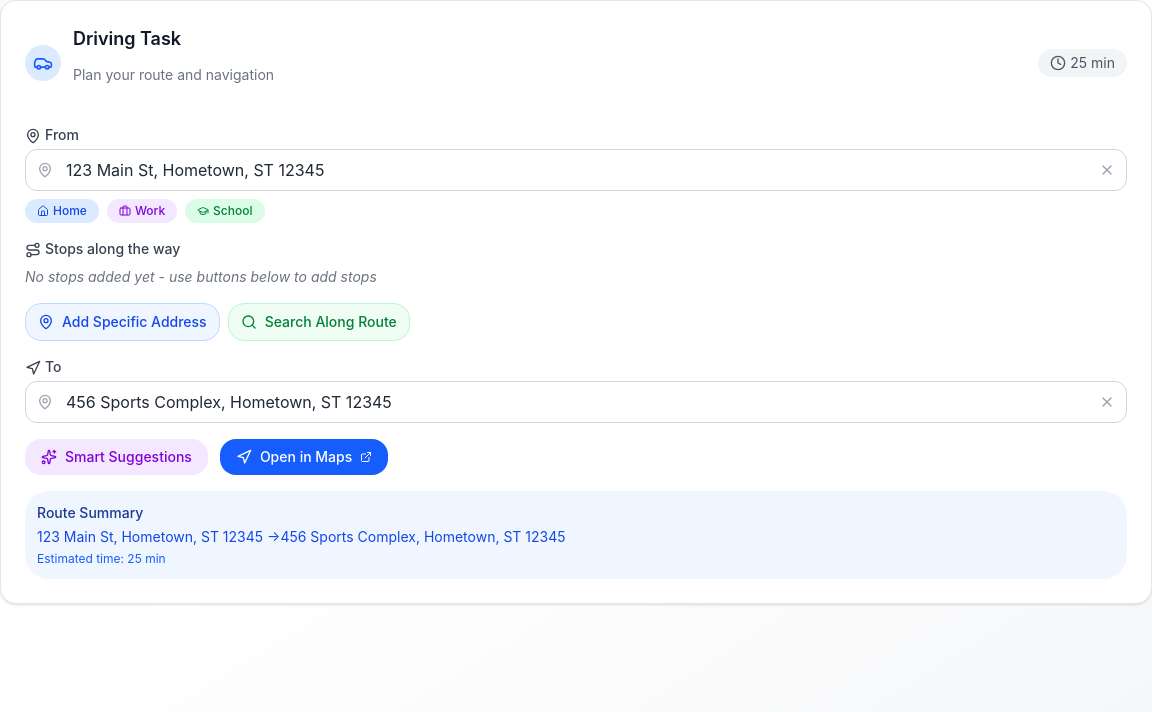
Test case: DrivingTaskTemplate › Smart Suggestions › should add smart suggestion as stop
Click the button "Smart Suggestions" at (116, 457), box [25,439,208,475]
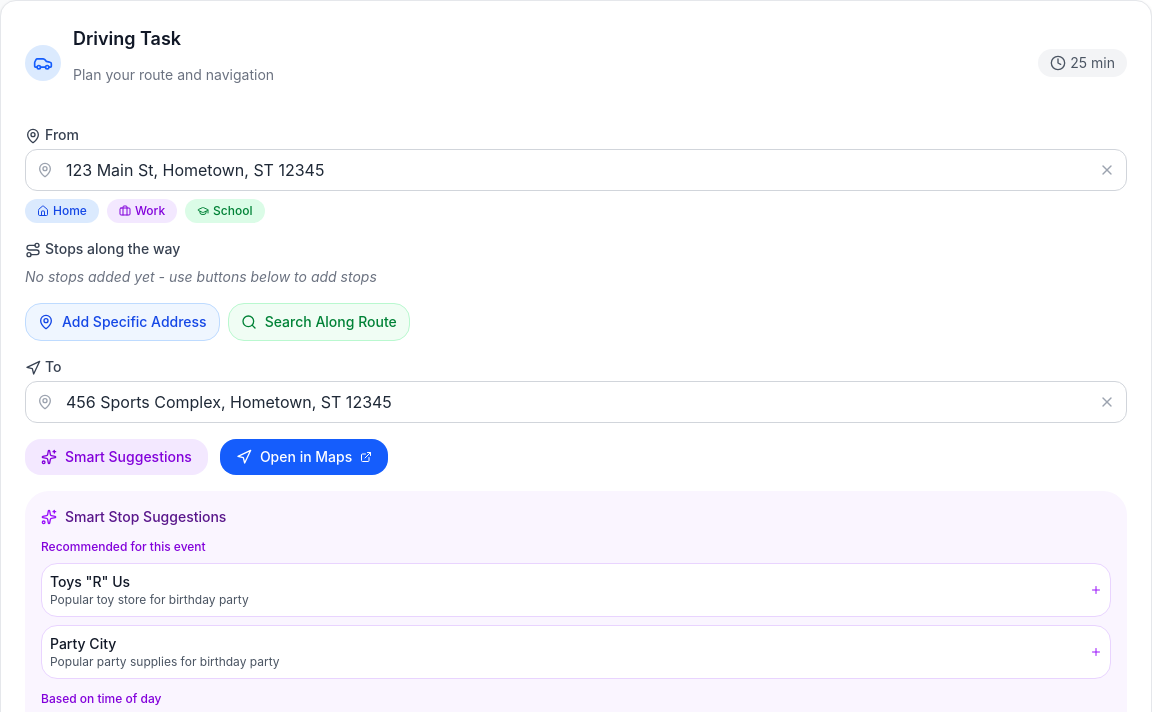
Click the button "Toys \"R\" Us" at (90, 582), box [41,563,1111,617]
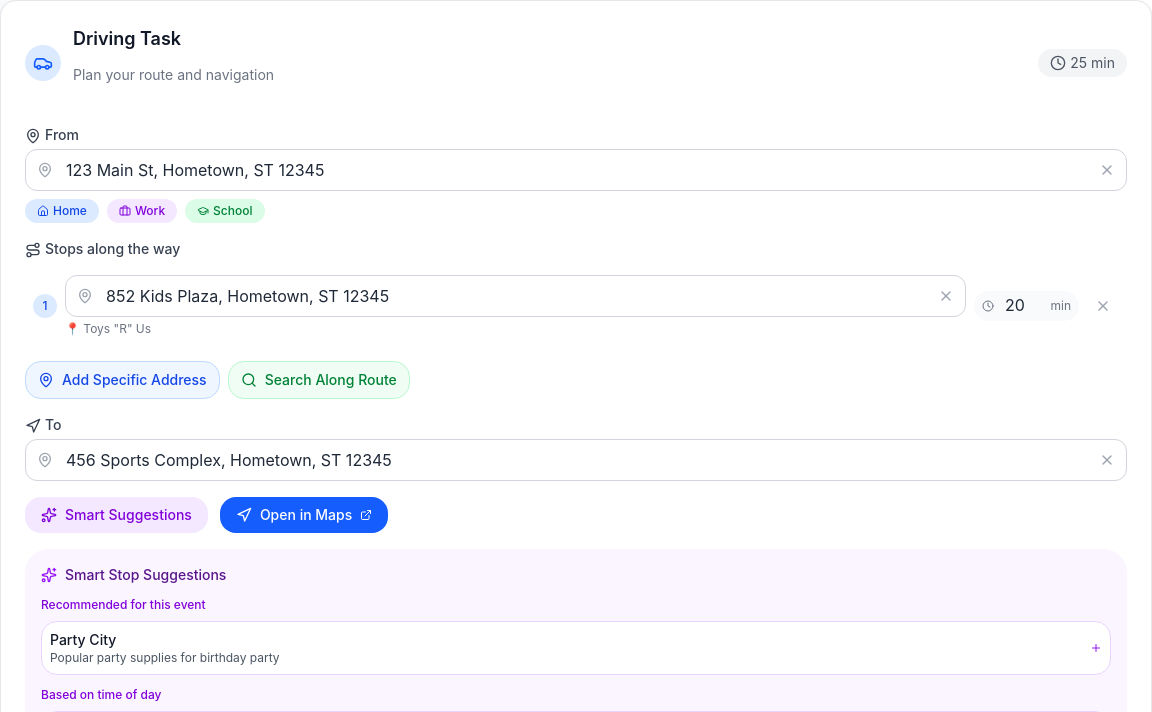
Expected: the field showing "852 Kids Plaza, Hometown, ST 12345" below "Stops along the way" is shown, [65,275,966,317]
